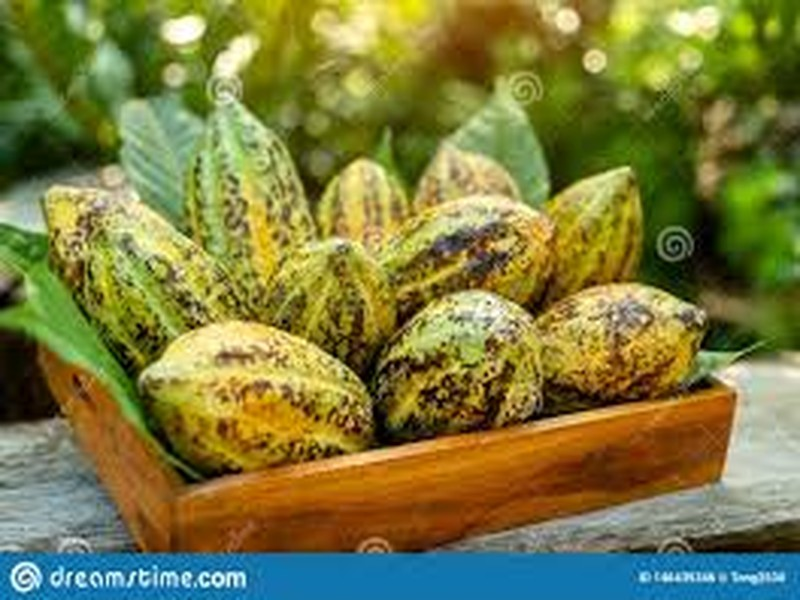Cacaopod: (139, 317, 377, 471)
